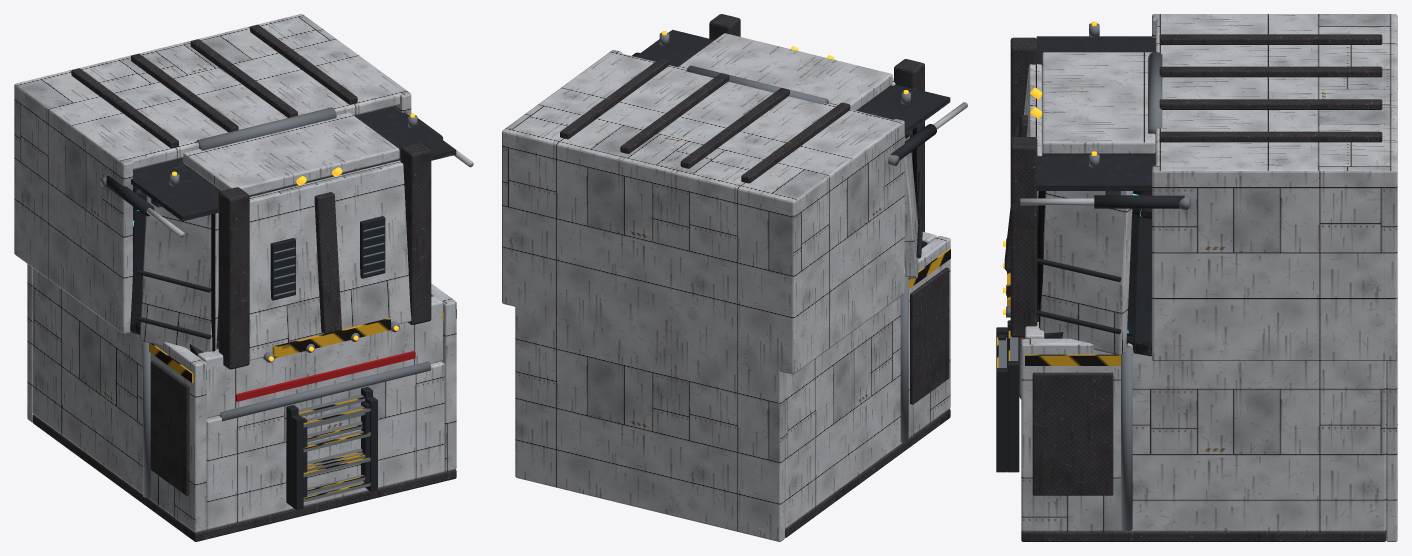
File: cockpit_breeze.gltf
The picture shows the model from 3 angles, left to right: view 1: azimuth 30°, elevation 25°; view 2: azimuth 150°, elevation 25°; view 3: azimuth 270°, elevation 25°; orthographic projection. The views are drawn at different scales.
Parts seen in each view (by area): view 1: pod_ext, HATCH_upper_ext, HATCH_lower_ext, DOOR_R_ext, FLAP_R_ext, pod_cabin, STAIR_2_ext, FLAP_L_ext, STAIR_1_ext, STAIR_3_ext, STRUT_R_ext; view 2: pod_ext, HATCH_upper_ext, FLAP_R_ext, pod_cabin, DOOR_R_ext, STRUT_R_ext; view 3: pod_ext, FLAP_L_ext, DOOR_L_ext, HATCH_upper_ext, pod_cabin, STAIR_1_ext, STAIR_2_ext, STRUT_L_ext, DOOR_L_cabin, STRUT_L_rod_ext.
Part boxes in pixels (left/top/right/bottom): pod_ext: left=14, top=14, right=456, bottom=541; HATCH_upper_ext: left=183, top=112, right=411, bottom=360; HATCH_lower_ext: left=197, top=296, right=442, bottom=418; DOOR_R_ext: left=137, top=195, right=218, bottom=352; FLAP_R_ext: left=149, top=342, right=206, bottom=532; pod_cabin: left=130, top=106, right=456, bottom=353; STAIR_2_ext: left=291, top=397, right=377, bottom=509; FLAP_L_ext: left=431, top=283, right=456, bottom=471; STAIR_1_ext: left=286, top=386, right=372, bottom=506; STAIR_3_ext: left=303, top=402, right=369, bottom=497; STRUT_R_ext: left=106, top=176, right=154, bottom=216; pod_ext: left=502, top=14, right=950, bottom=541; HATCH_upper_ext: left=678, top=33, right=895, bottom=110; FLAP_R_ext: left=904, top=236, right=950, bottom=438; pod_cabin: left=636, top=29, right=950, bottom=242; DOOR_R_ext: left=904, top=127, right=923, bottom=278; STRUT_R_ext: left=890, top=124, right=936, bottom=160; pod_ext: left=1010, top=14, right=1397, bottom=541; FLAP_L_ext: left=1021, top=338, right=1126, bottom=531; DOOR_L_ext: left=1036, top=191, right=1133, bottom=355; HATCH_upper_ext: left=1004, top=52, right=1155, bottom=306; pod_cabin: left=1036, top=36, right=1155, bottom=356; STAIR_1_ext: left=1007, top=320, right=1019, bottom=472; STAIR_2_ext: left=996, top=327, right=1007, bottom=472; STRUT_L_ext: left=1094, top=195, right=1184, bottom=208; DOOR_L_cabin: left=1127, top=214, right=1137, bottom=336; STRUT_L_rod_ext: left=1020, top=198, right=1094, bottom=205.
Bounding box in the file's own units: 2.02 × 2.22 × 2.09.
Materials: 18 (11 with a texture image).
